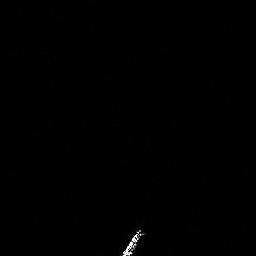ship: (119, 225, 148, 256)
